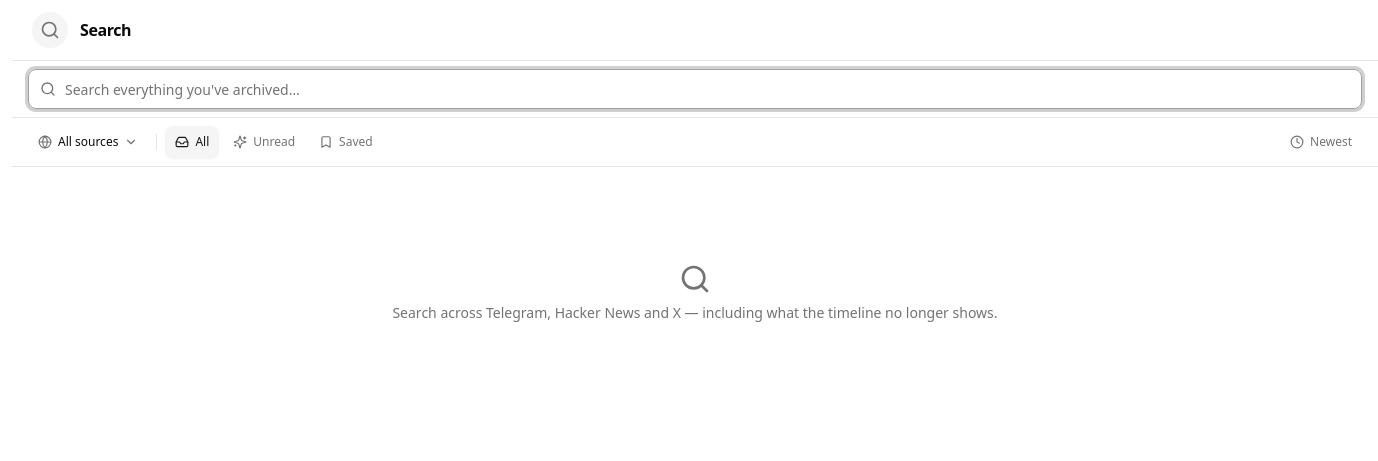
SearchView › puts the status and sort filters in the URL and in the request
Step 1. Type "rust" into the field labelled "Search everything you've archived…" → (695,89), box [28,69,1362,109]
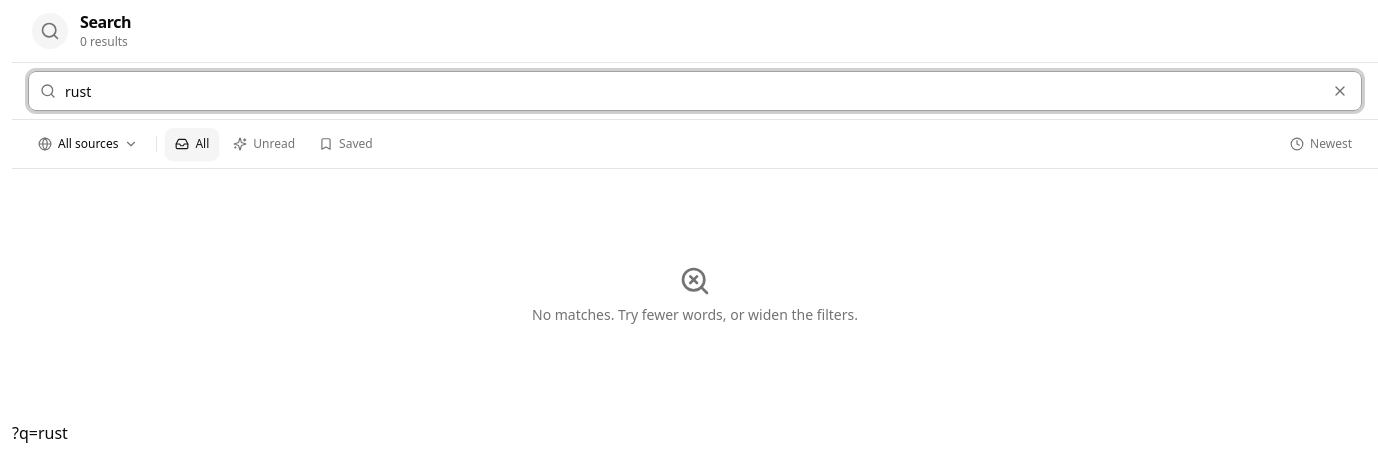
Step 2. Click the button "Unread" → (264,144), box [223,128,305,160]
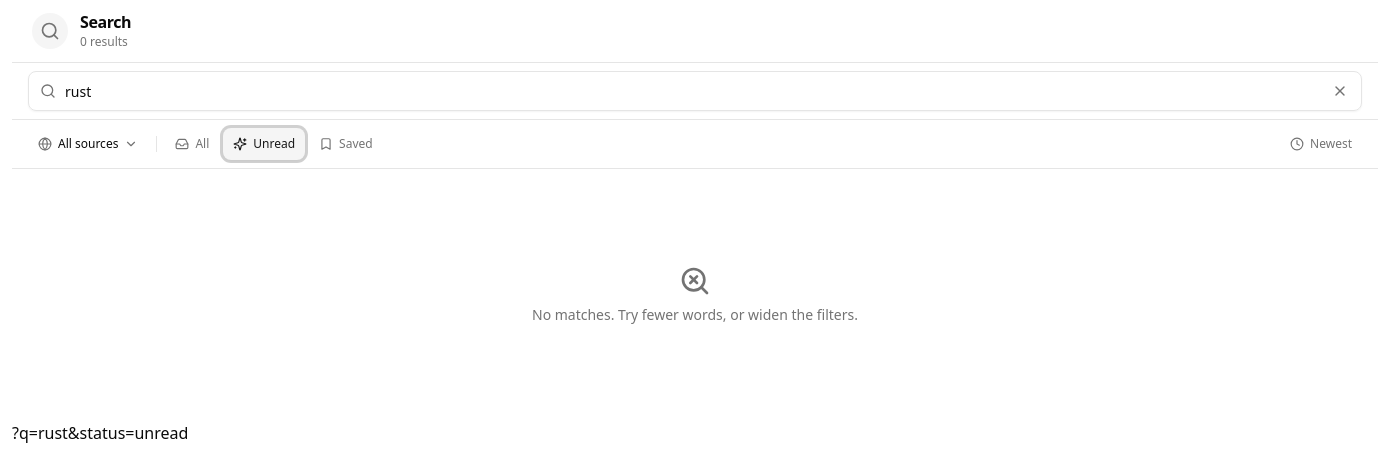
Step 3. Click the button "Newest" → (1321,144), box [1280,128,1362,160]
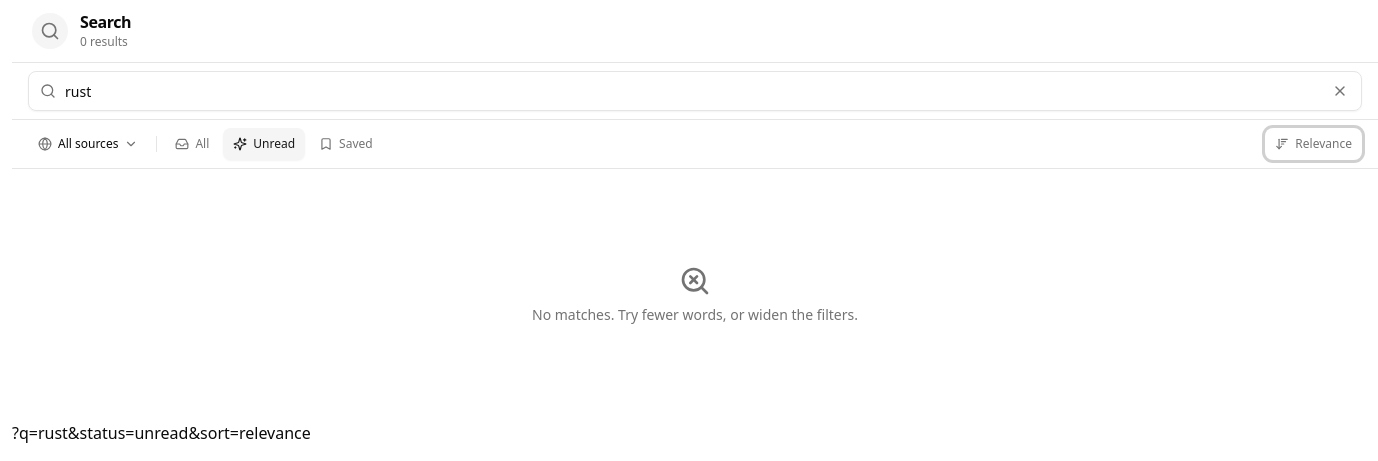
Now the text with test id "location" shows "status=unread", box [12,422,311,444]
Now the text with test id "location" shows "sort=relevance", box [12,422,311,444]
